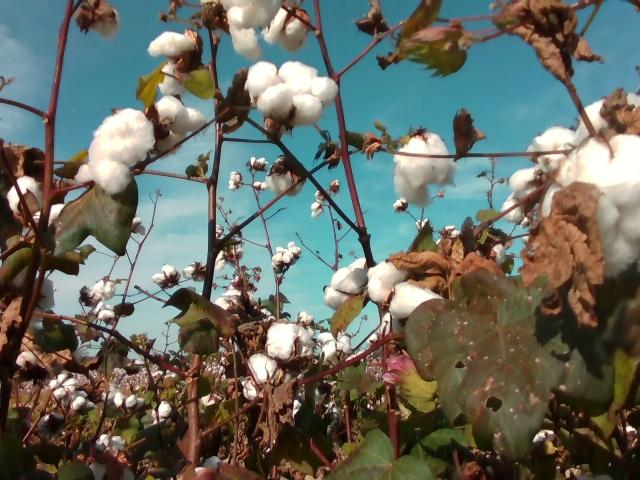cotton_ready: (538, 132, 640, 280), (528, 93, 640, 167), (76, 108, 156, 194), (246, 62, 339, 126), (394, 135, 458, 205), (368, 261, 447, 317), (216, 0, 279, 63), (155, 97, 208, 156), (151, 29, 195, 97), (500, 166, 543, 226), (262, 322, 315, 370), (325, 256, 366, 311), (264, 3, 308, 50), (268, 153, 305, 196), (7, 175, 43, 218), (245, 354, 279, 399), (318, 331, 353, 360)
